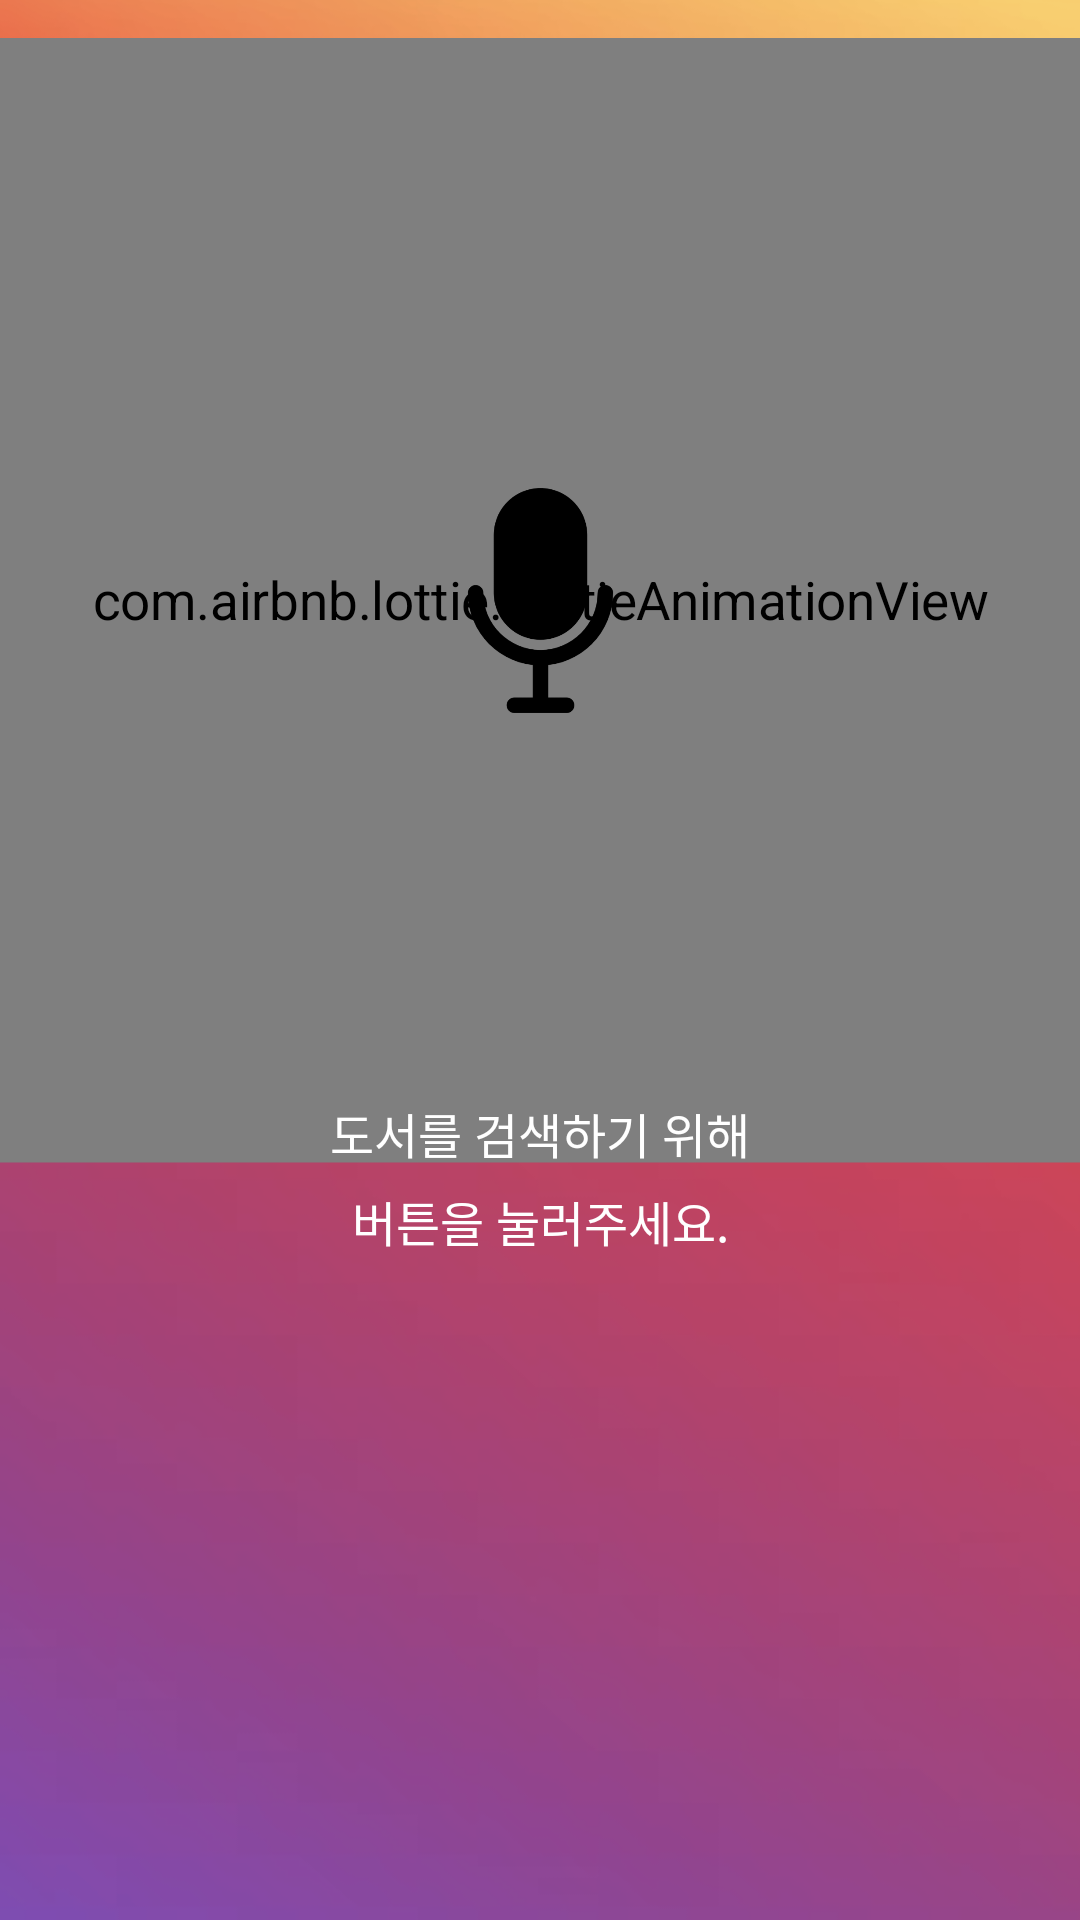

Where icons sit on this 1080*1920 app screen, as (x1, y1, x2, y2):
mike: (431, 488, 635, 713)
